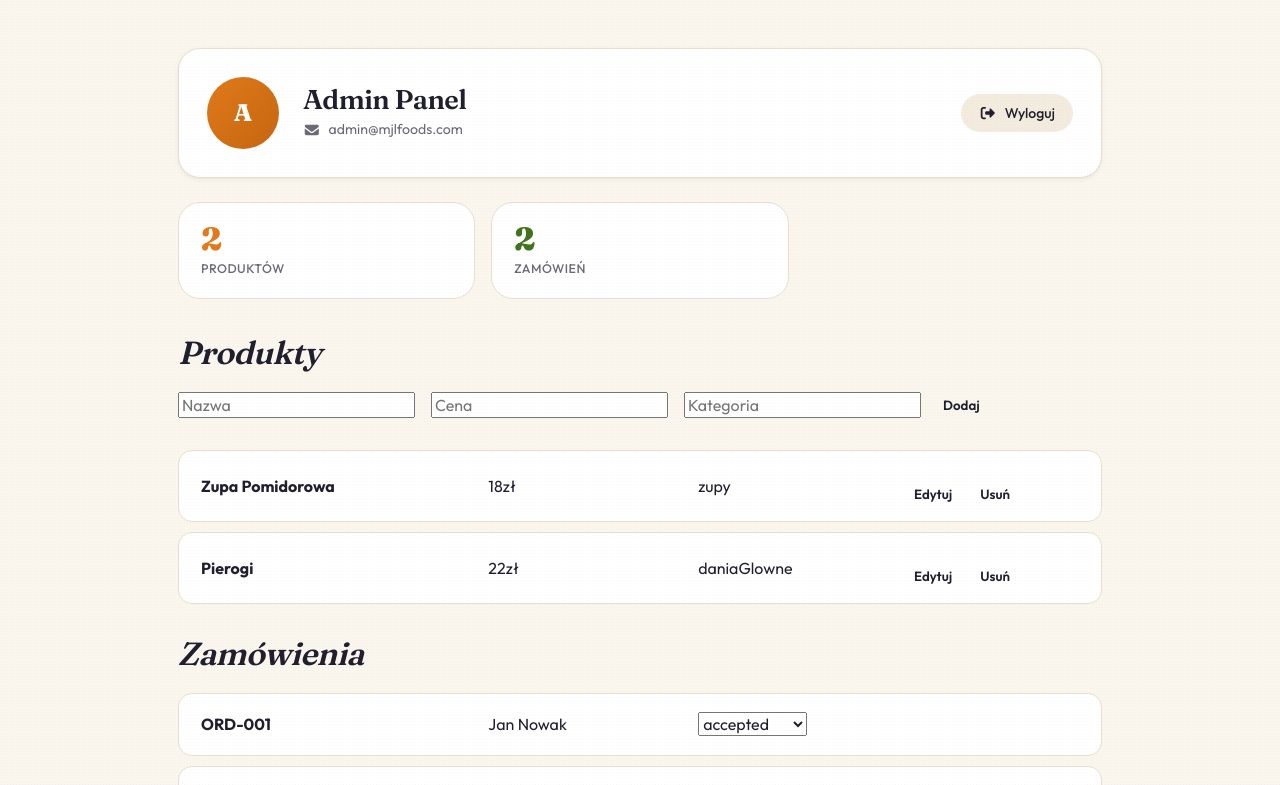
Test case: Admin — produkty › usuwa produkt z listy po udanym DELETE
Expected: the text "Zupa Pomidorowa" is shown, top-left (201, 476), bottom-right (335, 496)
Click the button "Usuń" in the row of "Zupa Pomidorowa": [995, 494] box top-left (974, 485), bottom-right (1016, 503)
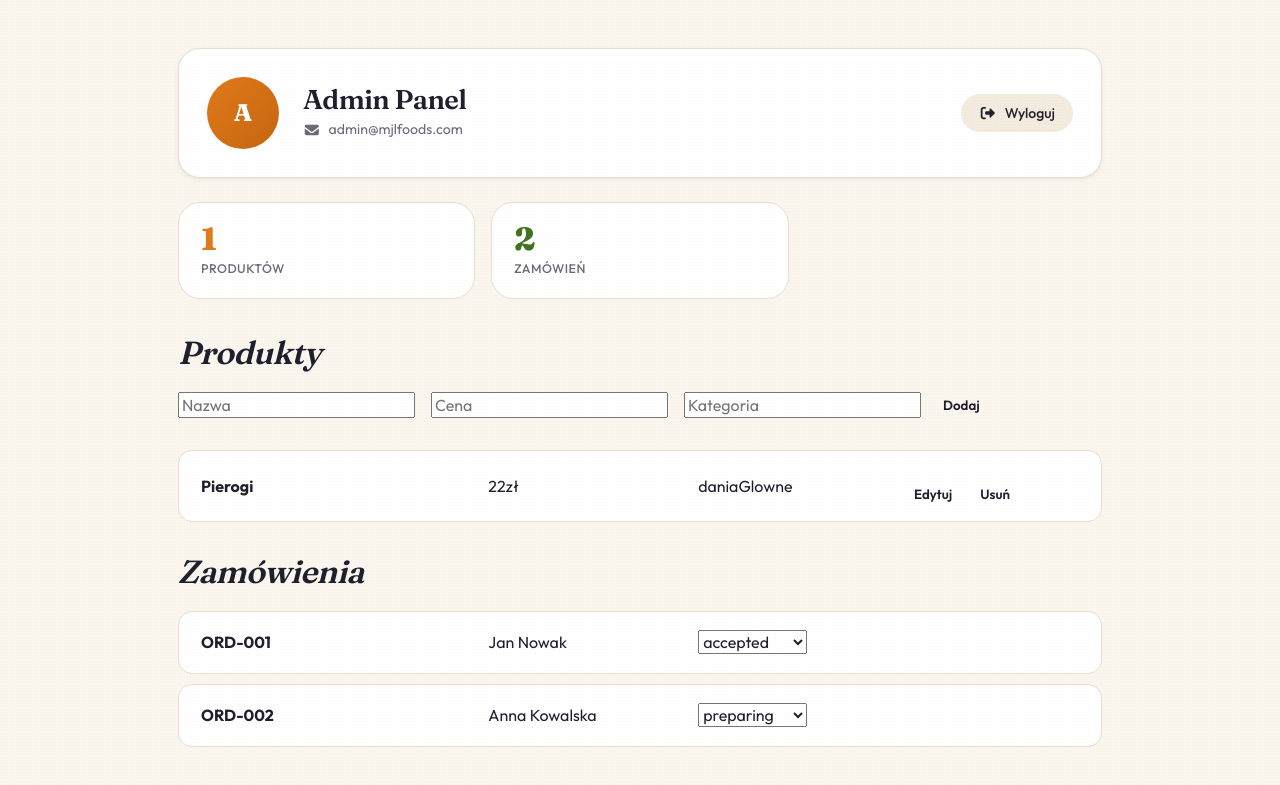
Expected: the text "Zupa Pomidorowa" is gone
